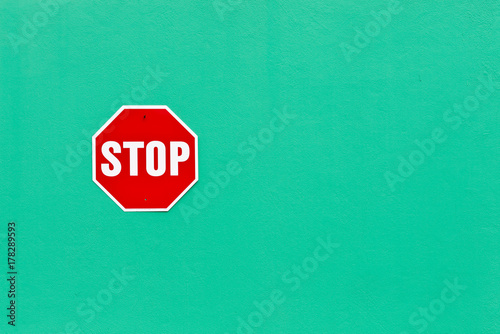StopSign: (92, 105, 198, 211)
